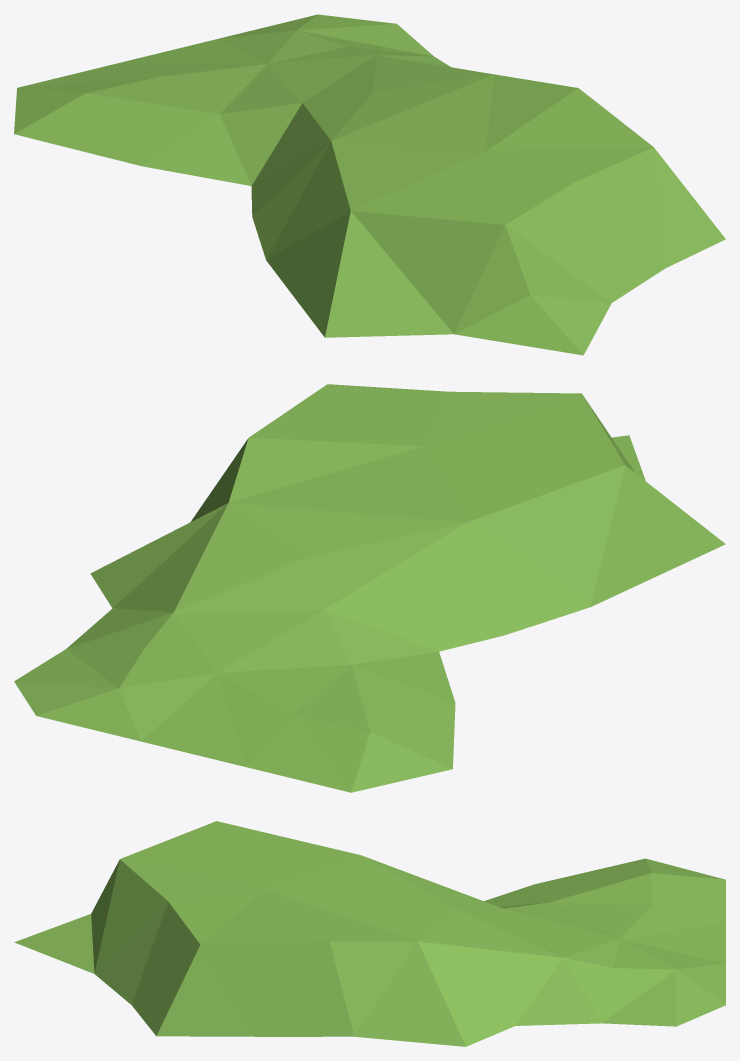
The model's file is MT_Mountain_S_c_01_LOD.fbx.
3 renders of one model, top to bottom at view 1: azimuth 30°, elevation 25°; view 2: azimuth 150°, elevation 25°; view 3: azimuth 270°, elevation 25°, orthographic. The views are drawn at different scales.
Visible parts, largest first — view 1: MT_Mountain_S_c_01_LOD0; view 2: MT_Mountain_S_c_01_LOD0; view 3: MT_Mountain_S_c_01_LOD0.
Boxes of the visible parts, bbox=[...] form: MT_Mountain_S_c_01_LOD0: bbox=[14, 14, 725, 355]; MT_Mountain_S_c_01_LOD0: bbox=[14, 384, 725, 792]; MT_Mountain_S_c_01_LOD0: bbox=[14, 821, 725, 1046].
Size of what is drawn, in the model's own units: 1406 by 268 by 2246.
